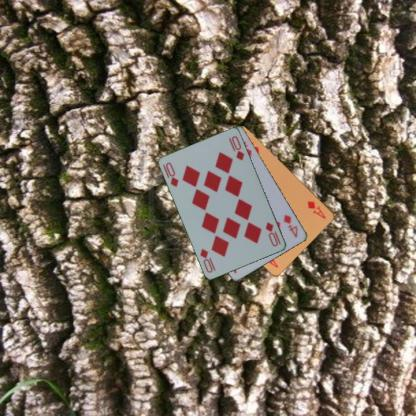10d: (160, 160, 180, 188), (263, 219, 282, 248)
4d: (281, 212, 299, 239)
Ad: (305, 198, 327, 220)
